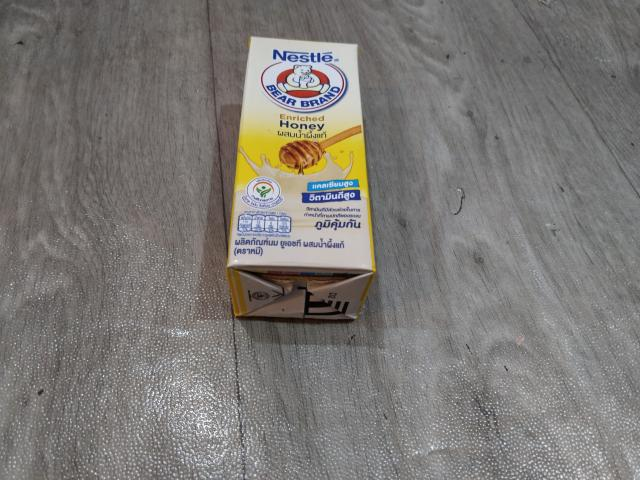drink_box: (229, 33, 382, 326)
